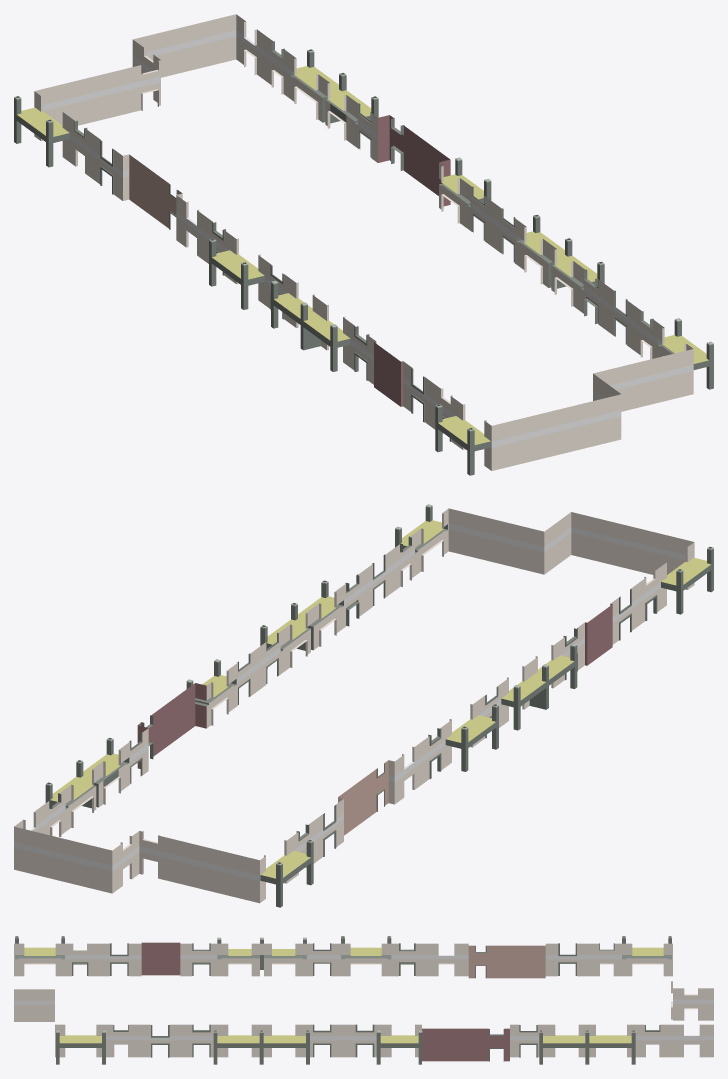
The model's file is wall_3.fbx.
3 renders of one model, top to bottom at view 1: azimuth 30°, elevation 25°; view 2: azimuth 150°, elevation 25°; view 3: azimuth 270°, elevation 25°, orthographic. The views are drawn at different scales.
Visible parts, largest first — view 1: wall_3; view 2: wall_3; view 3: wall_3.
Boxes of the visible parts, x1,y1,x2,y2 form: wall_3: (14, 14, 713, 475); wall_3: (14, 504, 713, 907); wall_3: (14, 936, 713, 1064).
Size of the model in its own units: 2328 by 370 by 7190.
